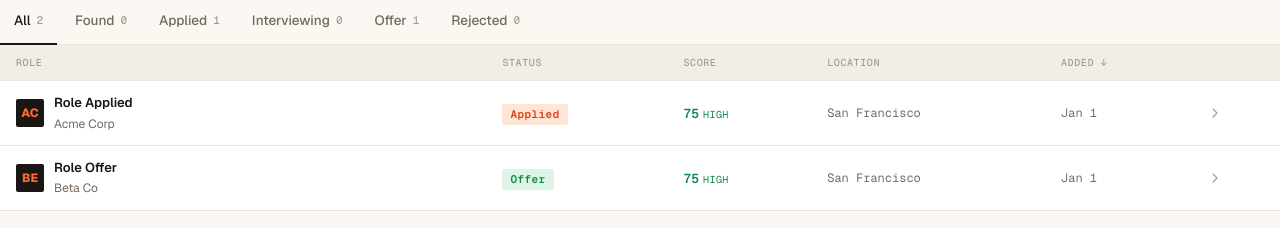
it: ApplicationsTable › filters rows by status when a status tab is clicked
The width and height of the screenshot is (1280, 228).
Click the text "Offer 1" at (397,20), box 374,11 -> 419,29
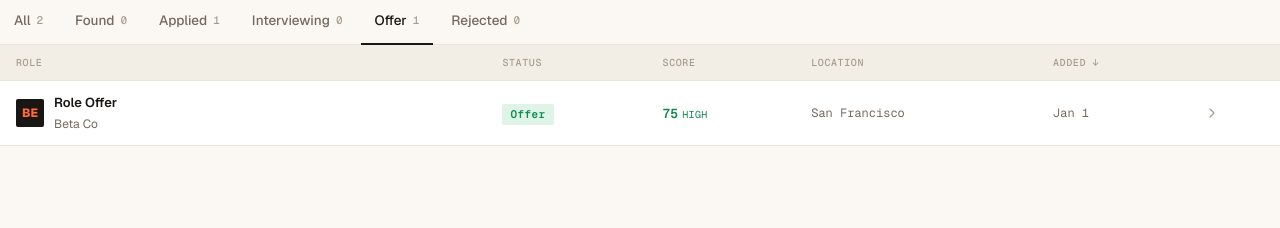
Expected: the text "Role Offer" is shown, 54,93 -> 117,114
Expected: the text "Role Applied" is gone
